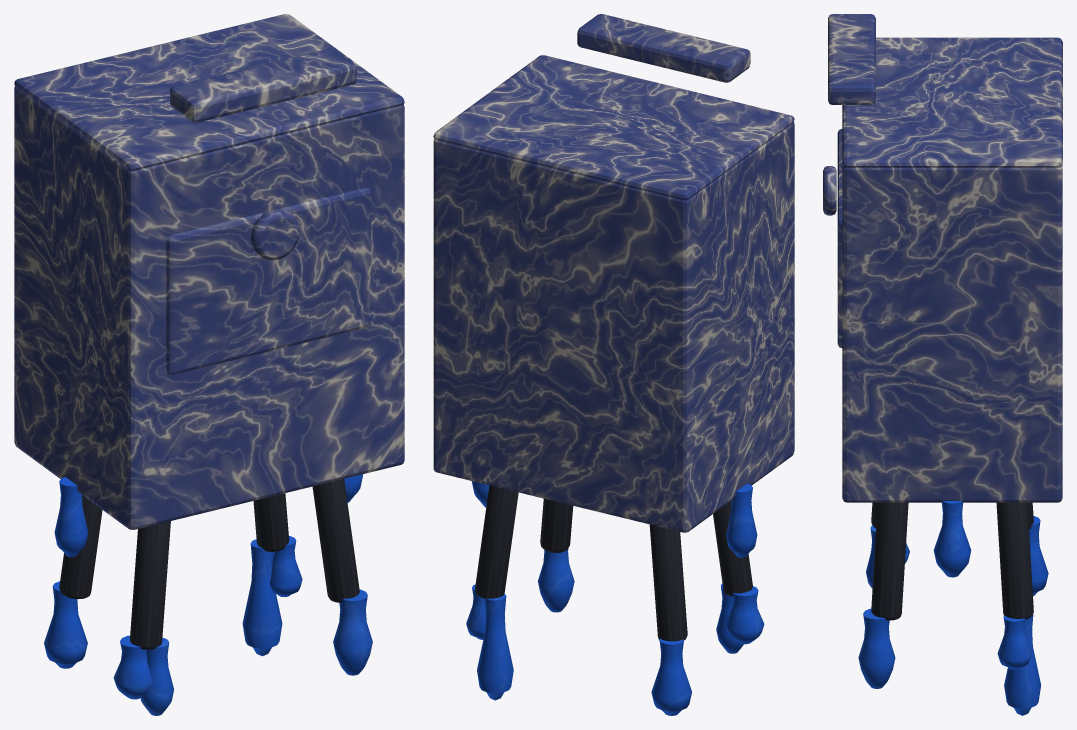
The model's file is mailbox.glb.
The picture shows the model from 3 angles, left to right: view 1: azimuth 30°, elevation 25°; view 2: azimuth 150°, elevation 25°; view 3: azimuth 270°, elevation 25°; orthographic projection. The views are drawn at different scales.
Visible parts, largest first — view 1: mailbox; view 2: mailbox; view 3: mailbox.
Part boxes in pixels (left/top/right/bottom): mailbox: left=14, top=14, right=404, bottom=715; mailbox: left=433, top=14, right=794, bottom=715; mailbox: left=823, top=14, right=1062, bottom=715.
Bounding box in the file's own units: 0.64 × 1.35 × 0.4693.
1 material, 1 textured.
